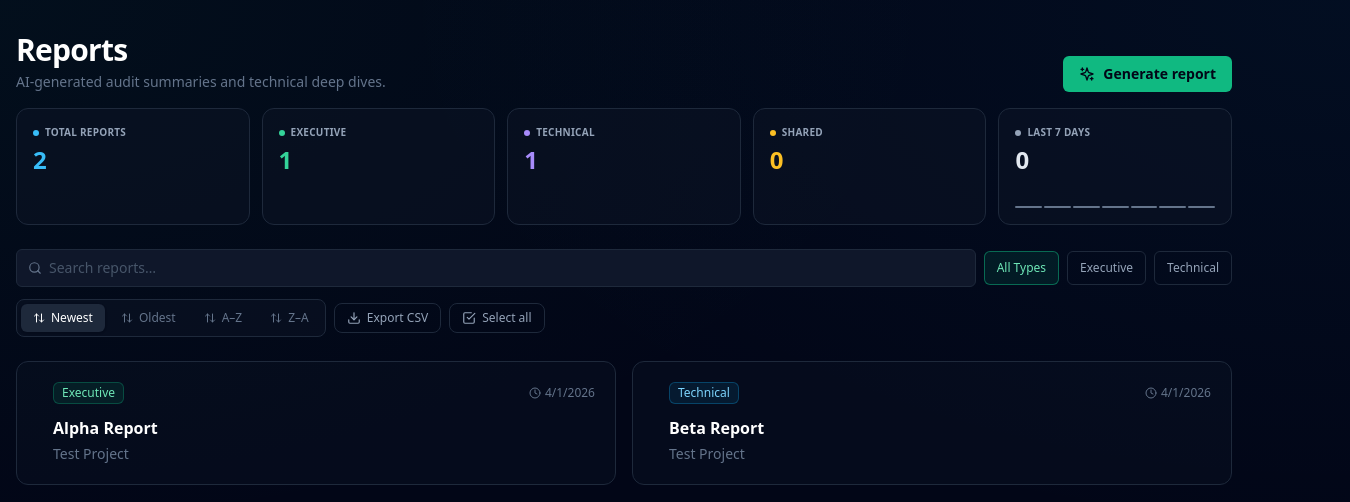
Scenario: Reports — bulk & filter functions › opens report view when report card clicked
The card is a button with the report title
Click the heading "Alpha Report" at [105, 428], box [53,417,158,439]
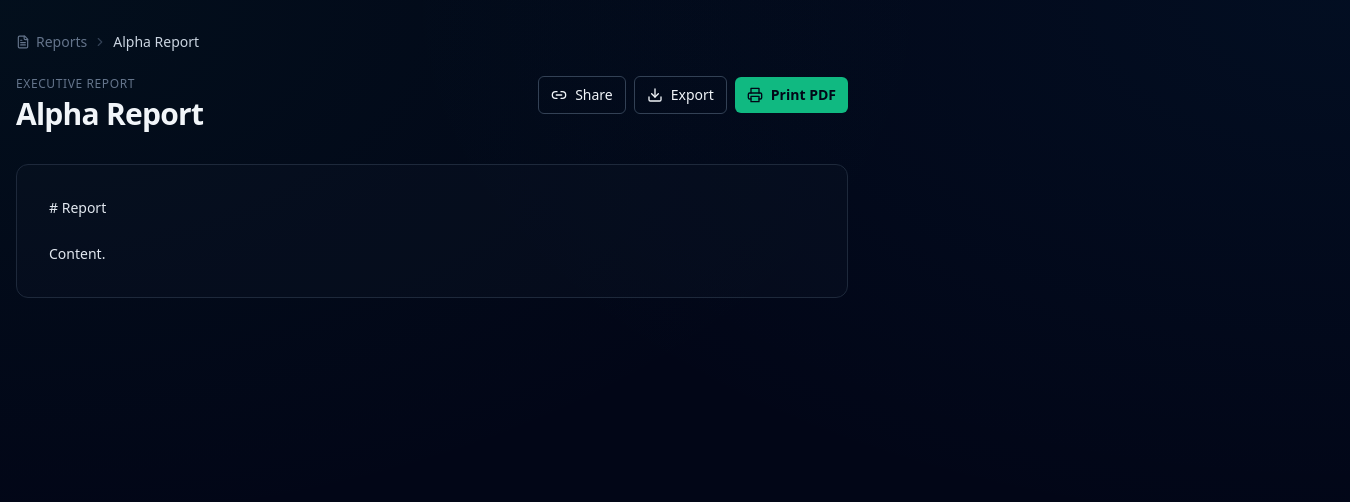
Result: the navigation bar named "breadcrumb" is shown at [16,32,199,52]
